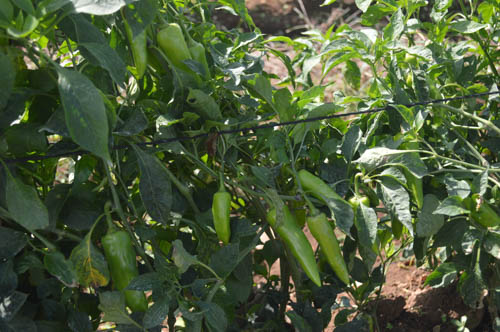ChiliPepper: (269, 201, 321, 286), (302, 211, 350, 282), (104, 232, 146, 309), (297, 170, 348, 206), (159, 24, 192, 74), (402, 137, 424, 211), (209, 190, 235, 244), (126, 26, 149, 77)
